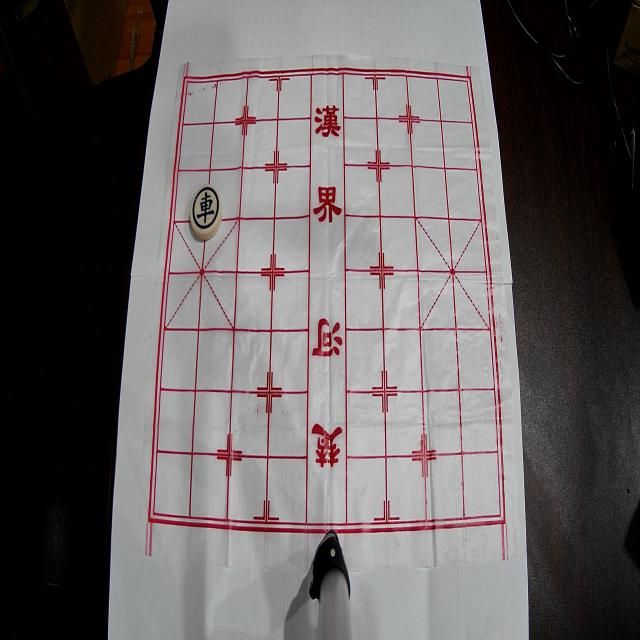black-chariot: (190, 184, 222, 240)
